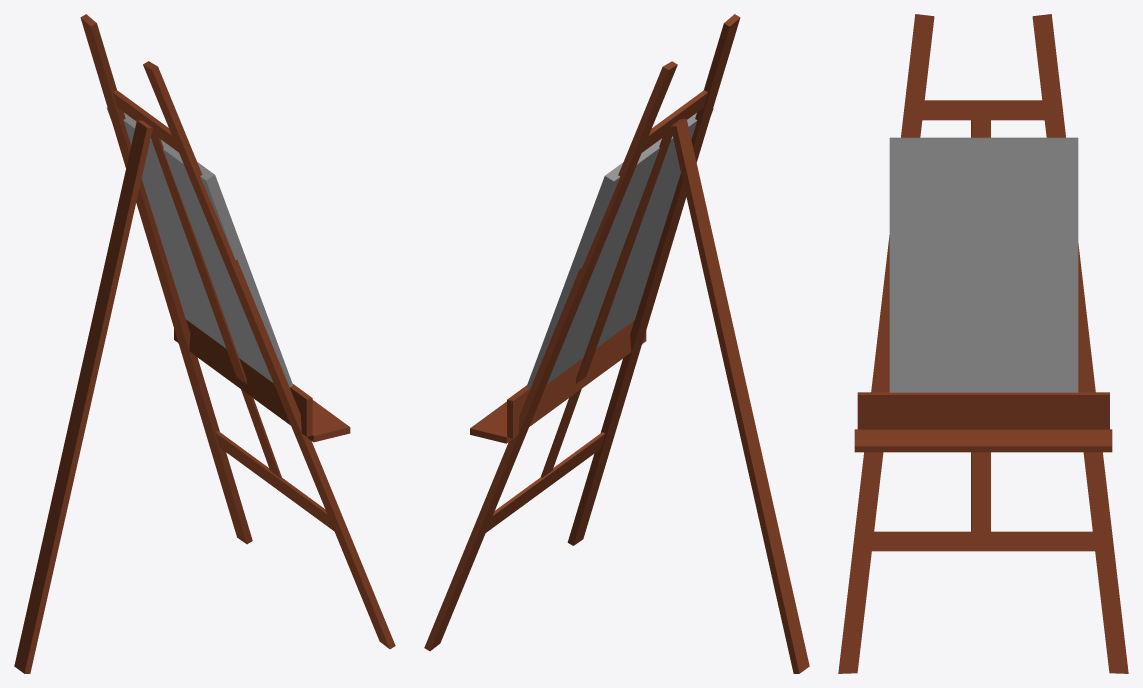
File: PaintChev.obj
3 renders of one model, left to right at view 1: azimuth 30°, elevation 25°; view 2: azimuth 150°, elevation 25°; view 3: azimuth 270°, elevation 25°, orthographic. The views are drawn at different scales.
Visible parts, largest first — view 1: Cube.001_Cube.002, Cube.004_Cube.005; view 2: Cube.001_Cube.002, Cube.004_Cube.005; view 3: Cube.004_Cube.005, Cube.001_Cube.002.
Part boxes in pixels (box(x1,y1,x2,y2)): Cube.001_Cube.002: box(14, 14, 395, 673); Cube.004_Cube.005: box(107, 107, 292, 387); Cube.001_Cube.002: box(424, 14, 809, 673); Cube.004_Cube.005: box(526, 108, 713, 388); Cube.004_Cube.005: box(889, 137, 1078, 392); Cube.001_Cube.002: box(838, 14, 1128, 673).
Size of the model in its own units: 4.16 by 7.97 by 3.65.
